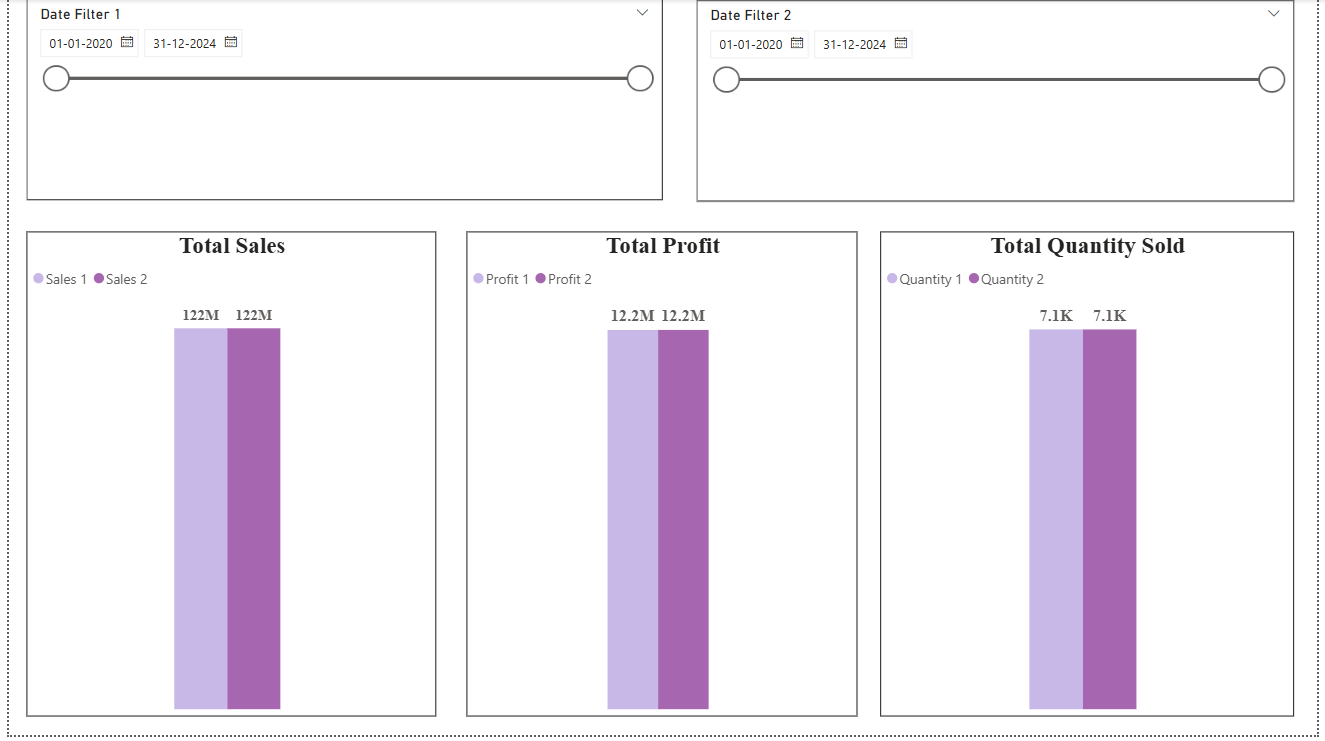

What the dashboard file says about the page in this screenshot:
{"tool":"powerbi","page":{"name":"Periodic Analysis","canvas":[1280,720],"ordinal":2},"visuals":[{"type":"slicer","fields":{"Values":["Date Table 1.Date"]},"box":[17.1,0,622.4,196.9],"z":0},{"type":"slicer","fields":{"Values":["Date Table 2.Date"]},"box":[672.6,1.2,584.5,196.9],"z":1000},{"type":"clusteredColumnChart","title":"Total Sales","fields":{"Y":["Sum(Fact Table.Net Sales   )","Date Table 1.Sum of Net Sales"]},"box":[17.1,227.4,401.1,474.5],"z":2000},{"type":"clusteredColumnChart","title":"Total Profit","fields":{"Y":["Sum(Fact Table.Profit)","Measures Table.Total Profit"]},"box":[447.6,227.4,382.7,474.5],"z":3000},{"type":"clusteredColumnChart","title":"Total Quantity Sold","fields":{"Y":["Sum(Fact Table.Units Sold)","Measures Table.Quantity Sold"]},"box":[852.3,227.4,404.8,474.5],"z":4000}]}

Visuals, with their boxes in screenshot pixels (x1, y1, x2, y2), scaled from the page's 1280x720 canvas onto the 1325x741 screenshot:
slicer - Date Table 1.Date: detection(18, 0, 662, 203)
slicer - Date Table 2.Date: detection(696, 1, 1301, 204)
"Total Sales" clusteredColumnChart: detection(18, 234, 433, 722)
"Total Profit" clusteredColumnChart: detection(463, 234, 859, 722)
"Total Quantity Sold" clusteredColumnChart: detection(882, 234, 1301, 722)
